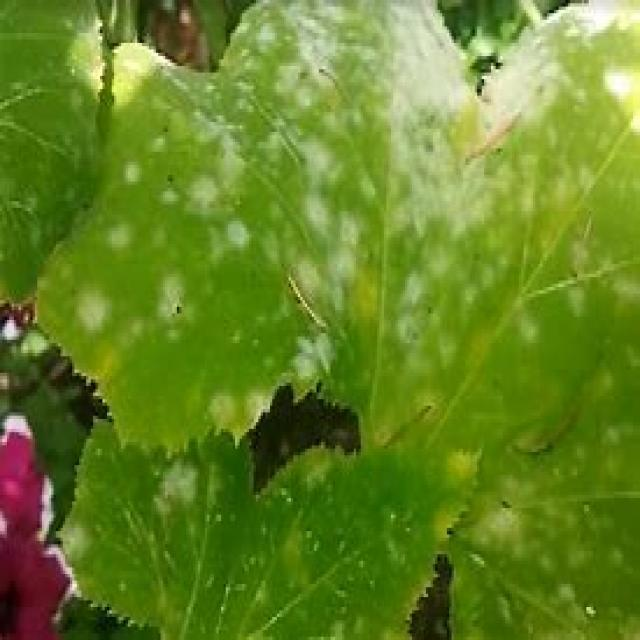Leaf_Mold: (137, 18, 640, 487)
